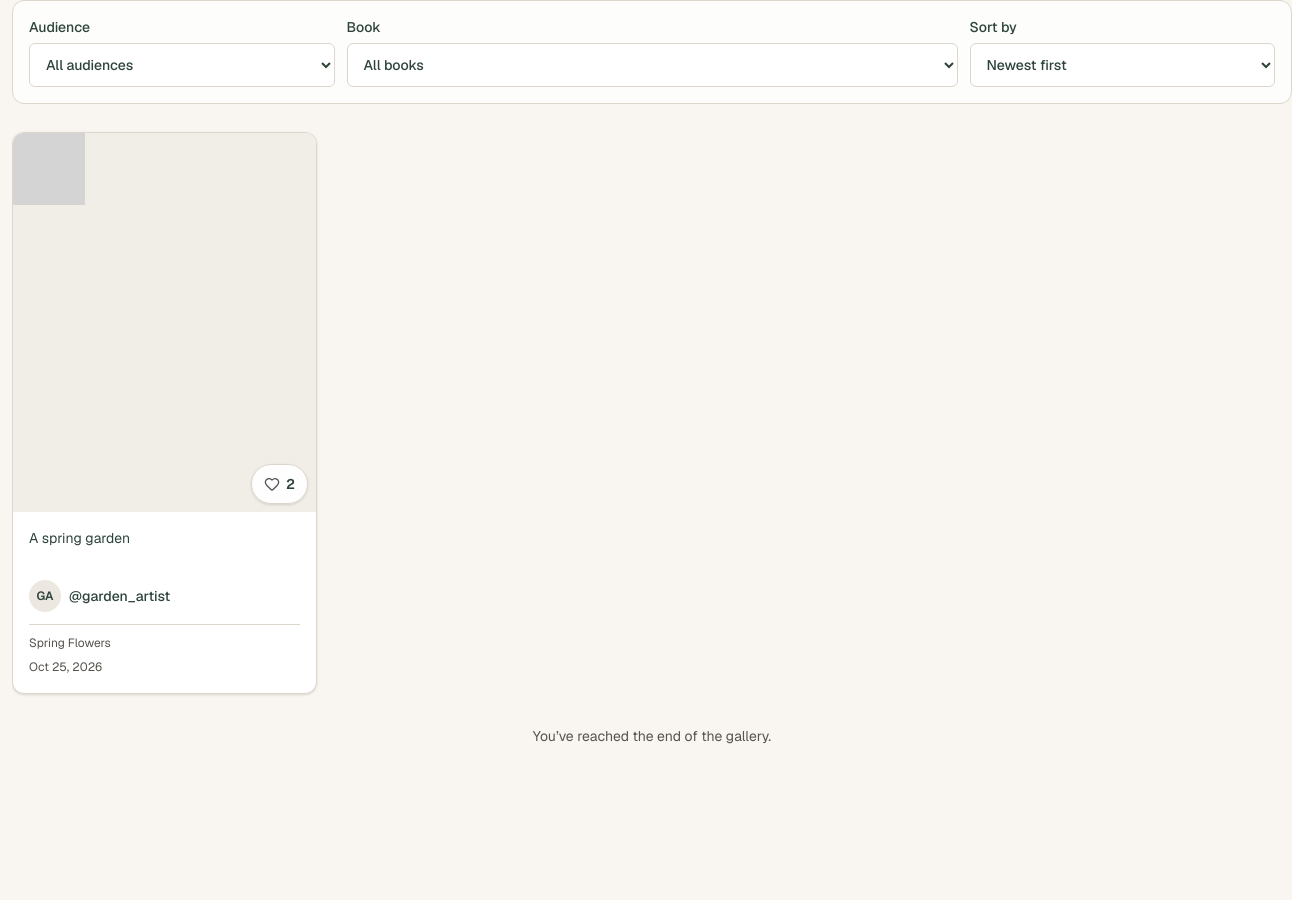
Test: public Coloring Club gallery › clears stale cards on filter failure and lets the visitor retry
Step 1. Select "Kids" in the dropdown with test id "community-gallery-audience-filter" → x=182, y=65, box [29,43,334,87]
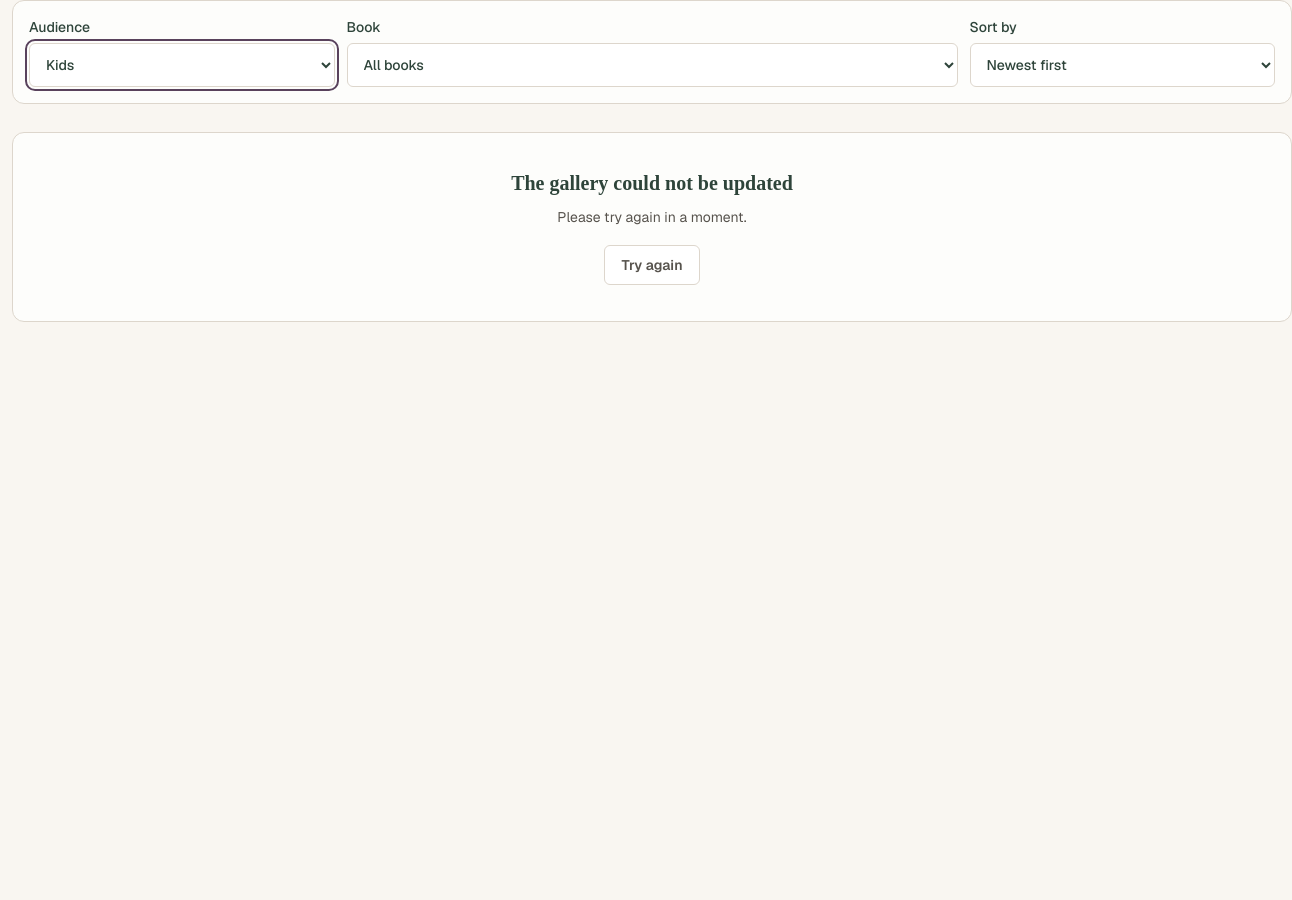
Expected: the message shows "could not be updated", [511,172,793,194]
Expected: the text "A spring garden" is gone
Step 2. Click the button "Try again" → x=652, y=265, box [604,245,700,285]
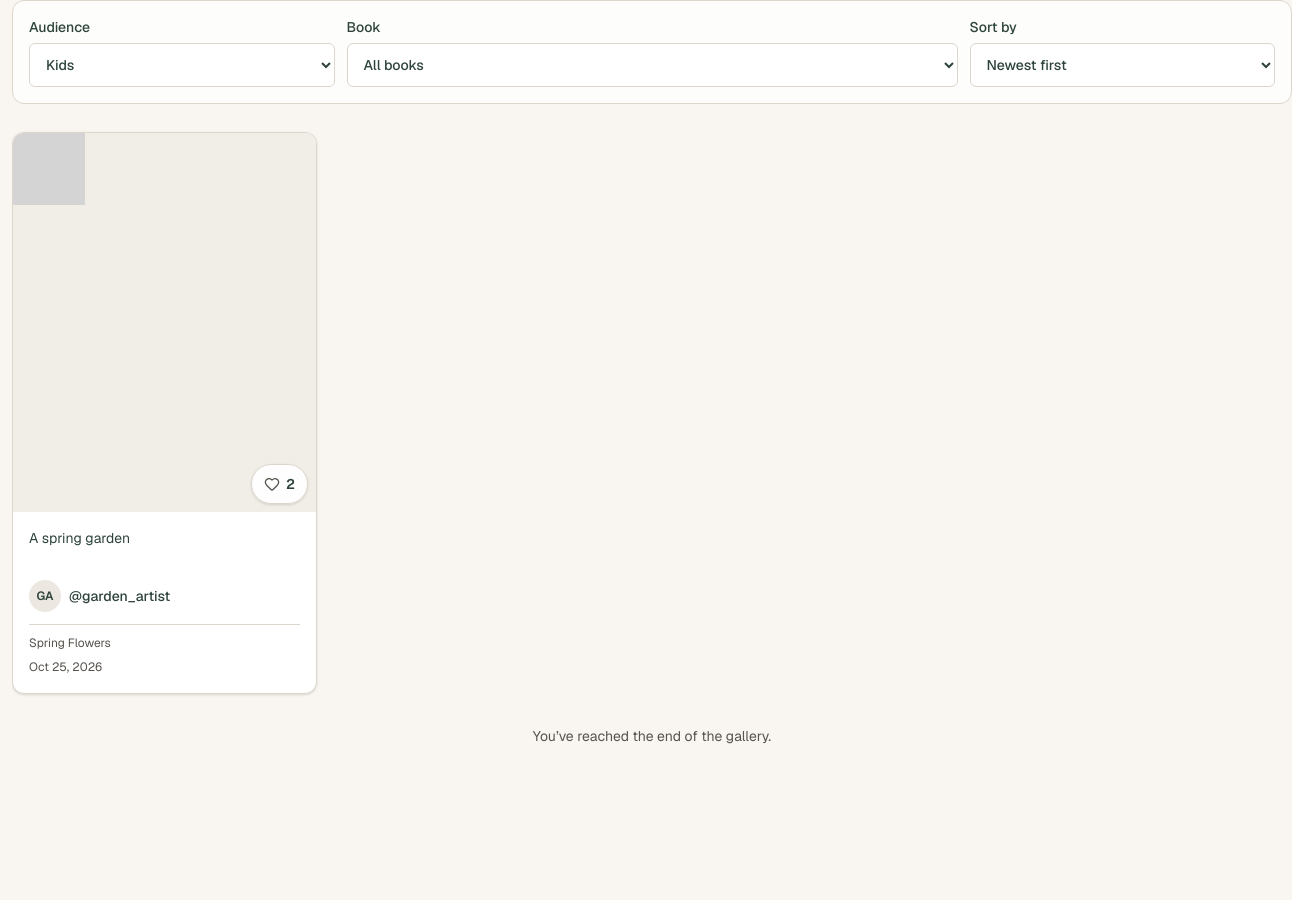
Expected: the text "A spring garden" is shown, [29,529,130,547]
